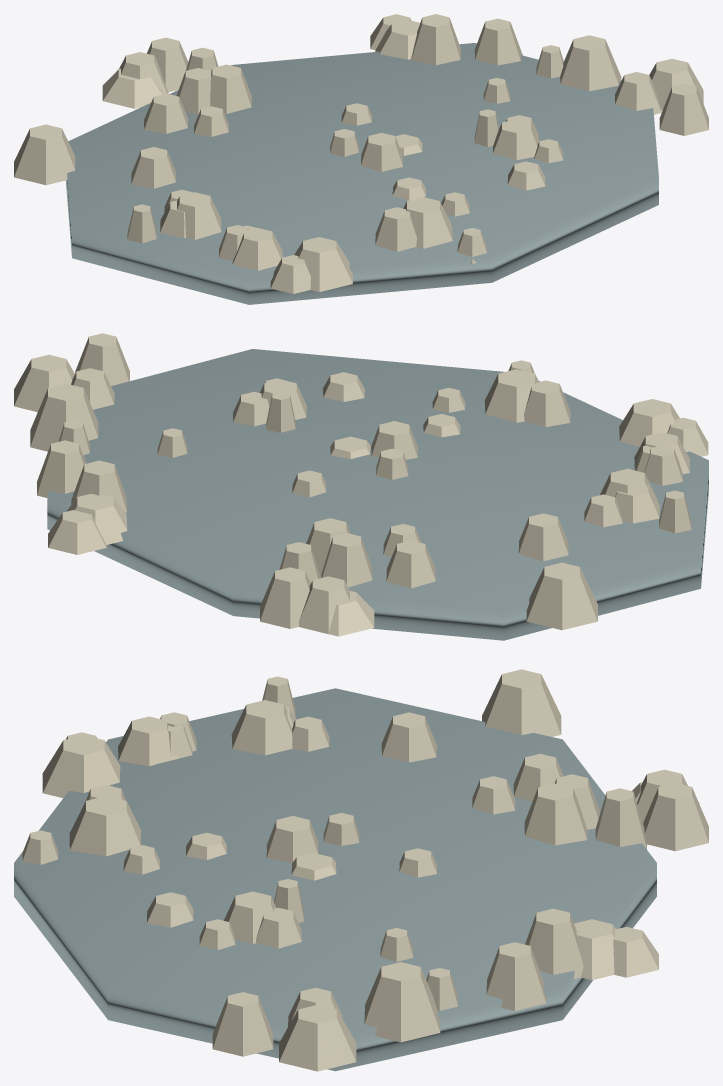
Rendered from sunken-city-and-underwater-ruins-barnacle-crust-plate-b0d05df1__36991.glb.
3 renders of one model, top to bottom at view 1: azimuth 30°, elevation 25°; view 2: azimuth 150°, elevation 25°; view 3: azimuth 270°, elevation 25°, orthographic. The views are drawn at different scales.
Visible parts, largest first — view 1: barnacle-crust-plate; view 2: barnacle-crust-plate; view 3: barnacle-crust-plate.
Boxes of the visible parts, x1,y1,x2,y2 form: barnacle-crust-plate: (14, 14, 708, 304); barnacle-crust-plate: (14, 333, 708, 640); barnacle-crust-plate: (14, 669, 708, 1071).
Bounding box in the file's own units: 1.68 × 0.1972 × 1.31.
